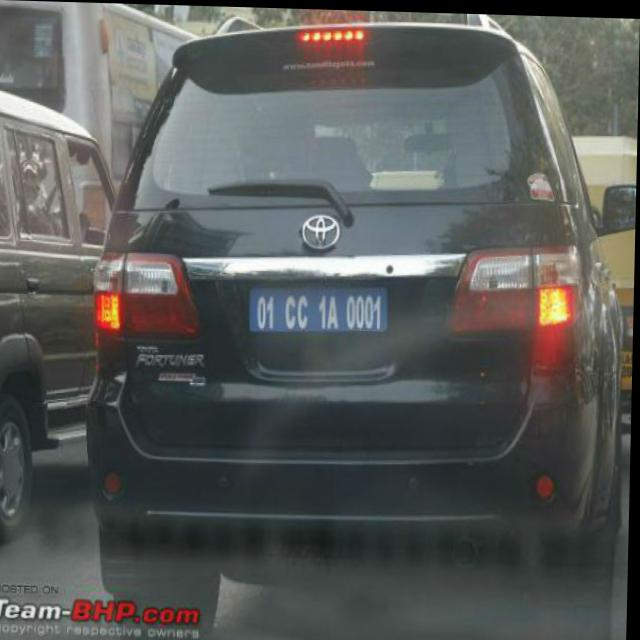licence: (245, 279, 394, 332)
